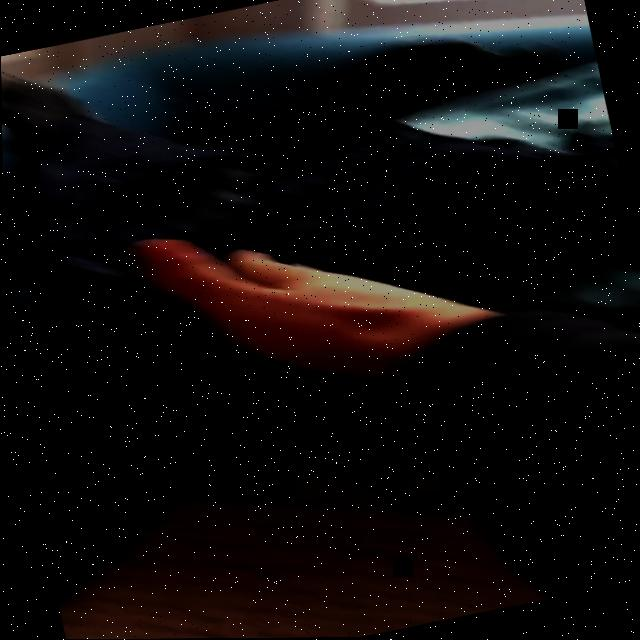Paper: (133, 177, 487, 416)
